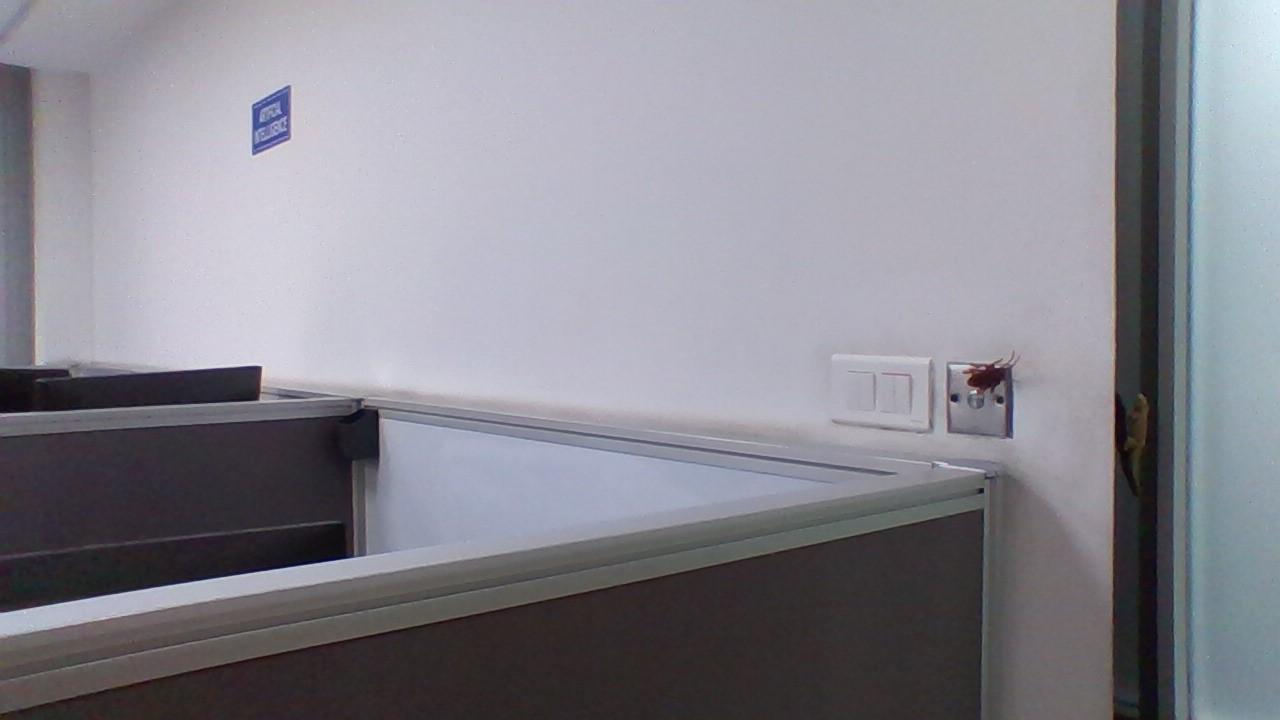cockroach: (963, 355, 1019, 397)
lizard: (1120, 389, 1150, 505)
